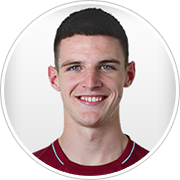smile: (74, 92, 110, 106)
